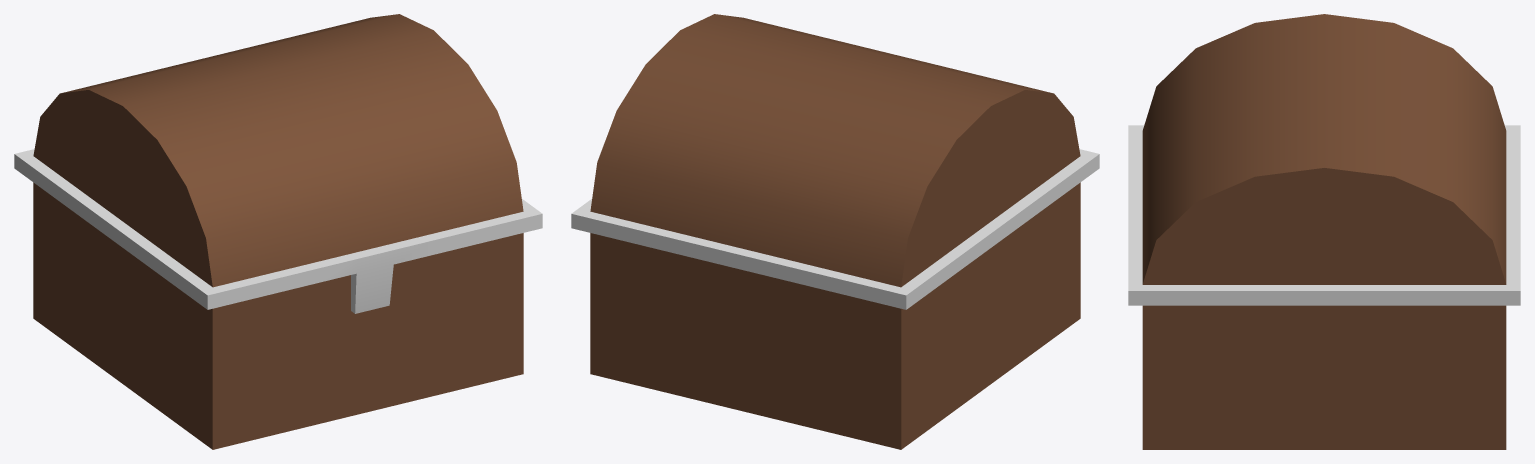
Rendered from Chest.fbx.
3 views of the same model, side by side, from view 1: azimuth 30°, elevation 25°; view 2: azimuth 150°, elevation 25°; view 3: azimuth 270°, elevation 25° (orthographic).
Parts seen in each view (by area): view 1: Chest; view 2: Chest; view 3: Chest.
Part boxes in pixels (left/top/right/bottom): Chest: left=14, top=14, right=542, bottom=449; Chest: left=571, top=14, right=1099, bottom=449; Chest: left=1128, top=14, right=1520, bottom=449.
Bounding box in the file's own units: 72.21 × 57.31 × 72.21.
